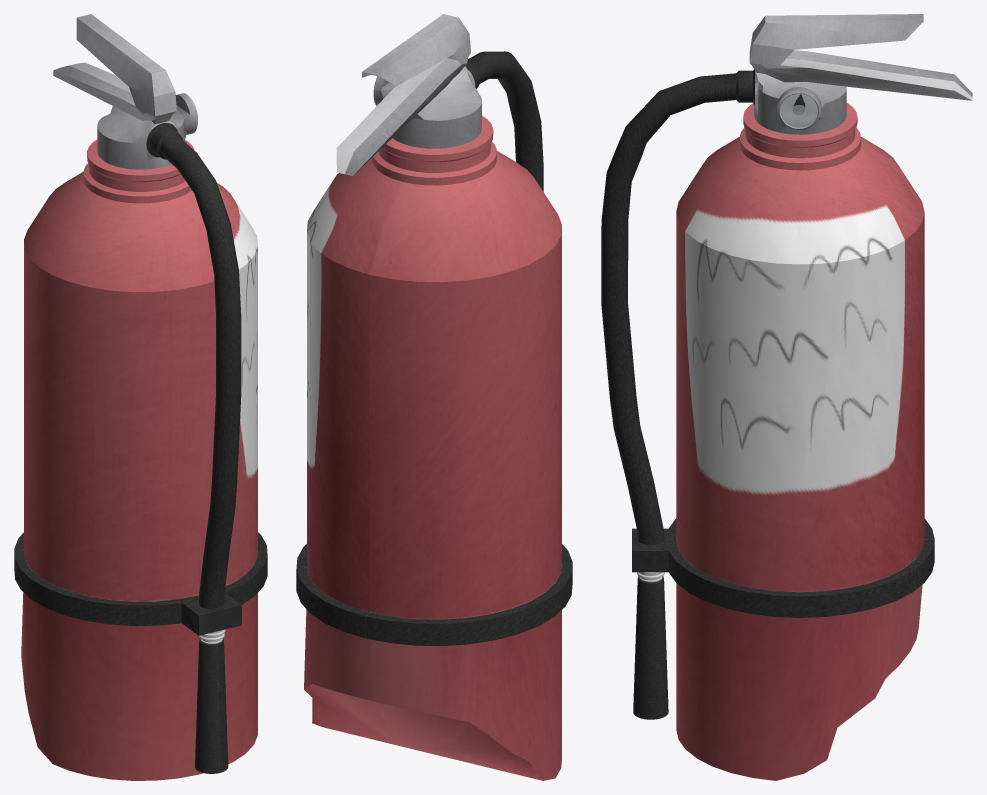
The model's file is DentedExtinguisher2.fbx.
3 renders of one model, left to right at view 1: azimuth 30°, elevation 25°; view 2: azimuth 150°, elevation 25°; view 3: azimuth 270°, elevation 25°, orthographic. The views are drawn at different scales.
Visible parts, largest first — view 1: Cylinder; view 2: Cylinder; view 3: Cylinder.
Part boxes in pixels (x1,y1,x2,y2): Cylinder: (14,14,267,780); Cylinder: (296,14,572,780); Cylinder: (601,14,972,780).
Size of the model in its own units: 79 by 231 by 109.
1 material, 1 textured.
